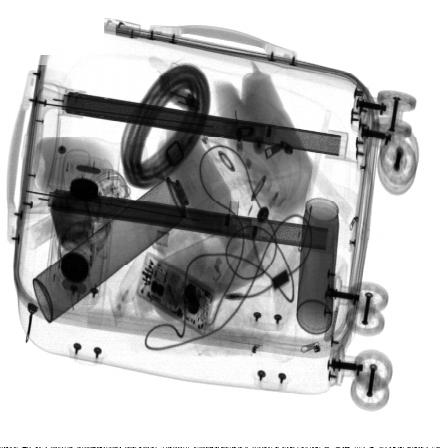Sprayer: (33, 159, 208, 322)
